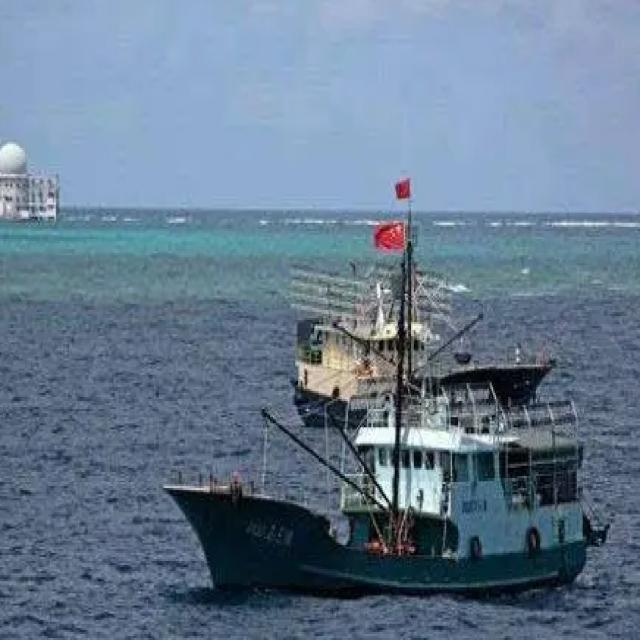fishing boat: (162, 337, 603, 599), (281, 231, 468, 425)
